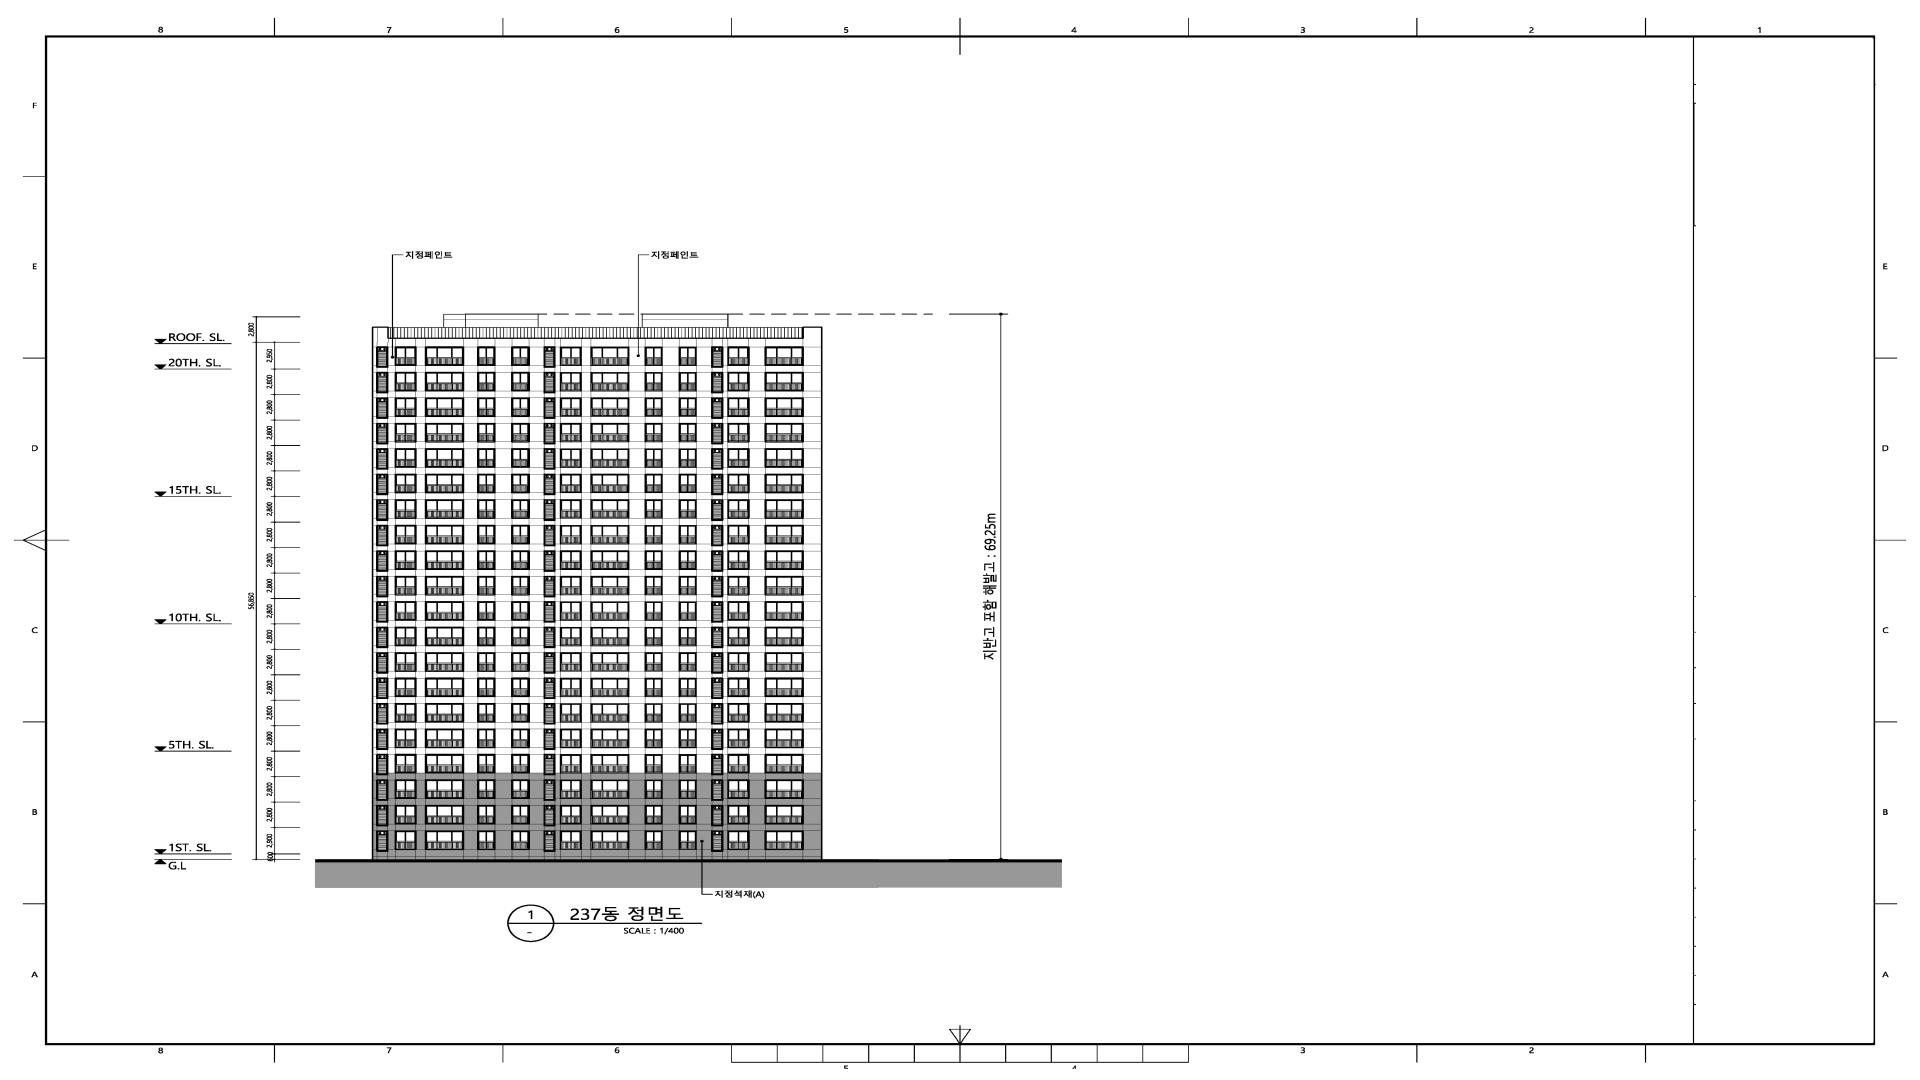wall: (372, 314, 823, 860)
window: (765, 831, 804, 851), (765, 779, 804, 799), (765, 754, 804, 774), (765, 728, 804, 748), (765, 703, 804, 723), (765, 678, 804, 698), (765, 653, 804, 673), (765, 626, 804, 646), (765, 601, 804, 621), (765, 576, 804, 596), (765, 550, 804, 570), (765, 498, 804, 518), (765, 473, 804, 493), (765, 448, 804, 468), (765, 423, 804, 443), (765, 397, 804, 417), (765, 372, 804, 392), (765, 347, 804, 367), (425, 831, 464, 851), (425, 804, 464, 824), (425, 779, 464, 799), (425, 754, 464, 774), (425, 703, 464, 723), (425, 678, 464, 698), (425, 653, 464, 673), (425, 626, 464, 646), (425, 601, 464, 621), (425, 576, 464, 596), (425, 550, 464, 570), (425, 525, 464, 545), (425, 500, 464, 520), (425, 473, 464, 493), (425, 448, 464, 468), (425, 423, 464, 443), (425, 397, 464, 417), (425, 372, 464, 392), (425, 347, 464, 367), (765, 804, 803, 824), (765, 525, 803, 545), (591, 347, 629, 367), (591, 372, 629, 392), (591, 397, 629, 417), (591, 448, 629, 468), (591, 473, 629, 493), (591, 525, 629, 545), (591, 550, 629, 570), (591, 601, 629, 621), (591, 626, 629, 646), (591, 678, 629, 698), (591, 703, 629, 723), (591, 754, 629, 774), (591, 779, 629, 799), (591, 804, 629, 824), (425, 729, 464, 748), (591, 423, 629, 442), (591, 500, 629, 518), (591, 576, 629, 595), (591, 653, 629, 671), (591, 729, 629, 748), (591, 831, 629, 849), (394, 347, 417, 367), (394, 372, 417, 392), (394, 397, 417, 417), (394, 423, 417, 443), (394, 448, 417, 468), (394, 473, 417, 493), (394, 500, 417, 520), (394, 525, 417, 545), (394, 550, 417, 570), (394, 576, 417, 596), (394, 601, 417, 621), (394, 626, 417, 646), (394, 653, 417, 673), (394, 678, 417, 698), (394, 703, 417, 723), (394, 728, 417, 748), (394, 754, 417, 774), (394, 779, 417, 799), (394, 804, 417, 824), (394, 831, 417, 851), (559, 804, 582, 824), (559, 779, 582, 799), (559, 754, 582, 774), (559, 703, 582, 723), (559, 626, 582, 646), (559, 550, 582, 570), (559, 525, 582, 545), (559, 473, 582, 493), (559, 397, 582, 417), (559, 372, 582, 392), (727, 601, 749, 621), (728, 653, 750, 673), (727, 678, 749, 698), (727, 703, 749, 723), (727, 804, 749, 824), (560, 831, 582, 851), (560, 678, 582, 698), (560, 601, 582, 621), (560, 448, 582, 468), (560, 347, 582, 367), (728, 372, 749, 392), (728, 397, 749, 417), (728, 423, 749, 443), (728, 448, 749, 468), (728, 473, 749, 493), (728, 525, 749, 545), (728, 550, 749, 570), (728, 576, 749, 596), (728, 626, 749, 646), (728, 754, 749, 774), (728, 779, 749, 799), (728, 831, 749, 851), (559, 729, 582, 748), (559, 653, 582, 671), (559, 576, 582, 595), (727, 347, 749, 365), (510, 397, 530, 417), (510, 754, 530, 774), (510, 728, 530, 748), (510, 703, 530, 723), (510, 576, 530, 596), (560, 500, 582, 518), (560, 423, 582, 442), (728, 500, 749, 518), (728, 729, 749, 748), (512, 525, 530, 545), (512, 500, 530, 520), (512, 473, 530, 493), (512, 448, 530, 468), (512, 423, 530, 443), (512, 372, 530, 392), (512, 347, 530, 367), (477, 347, 496, 367), (477, 372, 496, 392), (477, 397, 496, 417), (477, 423, 496, 443), (477, 448, 496, 468), (477, 473, 496, 493), (477, 500, 496, 520), (477, 525, 496, 545), (477, 550, 496, 570), (477, 576, 496, 596), (477, 601, 496, 621), (477, 626, 496, 646), (477, 653, 496, 673), (477, 678, 496, 698), (477, 703, 496, 723), (477, 728, 496, 748), (477, 754, 496, 774), (477, 779, 496, 799), (477, 804, 496, 824), (645, 804, 663, 824), (645, 728, 663, 748), (645, 703, 663, 723), (645, 678, 663, 698), (645, 525, 663, 545), (678, 525, 696, 545), (678, 576, 696, 596), (678, 601, 696, 621), (678, 754, 696, 774), (477, 831, 496, 851), (512, 831, 530, 851), (512, 804, 530, 824), (512, 779, 530, 799), (512, 678, 530, 698), (512, 653, 530, 673), (512, 626, 530, 646), (512, 601, 530, 621), (512, 550, 530, 570), (645, 831, 663, 849), (645, 576, 663, 595), (645, 500, 663, 518), (645, 779, 662, 799), (645, 754, 662, 774), (645, 626, 662, 646), (645, 601, 662, 621), (645, 550, 662, 570), (645, 473, 662, 493), (645, 448, 662, 468), (645, 397, 662, 417), (645, 372, 662, 392), (645, 347, 662, 367), (679, 347, 696, 367), (679, 372, 696, 392), (679, 397, 696, 417), (679, 473, 696, 493), (679, 448, 696, 468), (679, 550, 696, 570), (679, 626, 696, 646), (679, 678, 696, 698), (679, 703, 696, 723), (679, 779, 696, 799), (679, 804, 696, 824), (679, 831, 696, 851), (645, 653, 662, 671), (645, 423, 662, 442), (679, 423, 696, 442), (679, 500, 696, 518), (679, 653, 696, 671), (679, 729, 696, 748), (376, 804, 389, 827), (711, 397, 724, 419), (711, 473, 724, 496), (711, 550, 724, 572), (711, 626, 724, 649), (711, 703, 724, 725), (711, 728, 724, 750), (711, 804, 724, 827), (376, 779, 389, 800), (711, 347, 724, 368), (711, 423, 724, 444), (711, 448, 724, 469), (711, 500, 724, 521), (711, 525, 724, 546), (711, 576, 724, 597), (711, 601, 724, 622), (711, 653, 724, 674), (711, 678, 724, 699), (711, 754, 724, 775), (711, 779, 724, 800), (711, 831, 724, 852), (376, 397, 388, 419), (376, 473, 388, 496), (376, 550, 388, 572), (376, 626, 388, 649), (543, 804, 555, 827), (543, 728, 555, 750), (543, 626, 555, 649), (543, 550, 555, 572), (543, 473, 555, 496), (543, 397, 555, 419), (376, 347, 388, 368), (376, 372, 388, 393), (376, 423, 388, 444), (376, 448, 388, 469), (376, 500, 388, 521), (376, 525, 388, 546), (376, 576, 388, 597), (376, 601, 388, 622), (376, 653, 388, 674), (376, 678, 388, 699), (376, 703, 388, 724), (376, 729, 388, 750), (376, 754, 388, 775), (376, 831, 388, 852), (543, 831, 555, 852), (543, 779, 555, 800), (543, 754, 555, 775), (543, 703, 555, 724), (543, 678, 555, 699), (543, 653, 555, 674), (543, 601, 555, 622), (543, 576, 555, 597), (543, 525, 555, 546), (543, 500, 555, 521), (543, 448, 555, 469), (543, 423, 555, 444), (543, 372, 555, 393), (543, 347, 555, 368), (711, 372, 723, 393)
